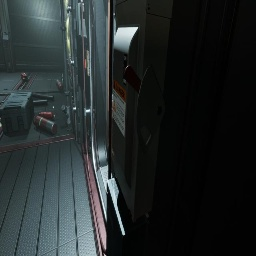EmergencyPhone ,: (85, 43, 90, 77)
FireAlarm ,: (84, 49, 87, 69)
FireExtinguisher ]: (38, 112, 57, 121)
FirstAidBox ,: (21, 73, 28, 82)
NitrogenTank ,: (33, 115, 58, 135), (56, 79, 64, 91)
SafetySwitchPanel ,: (112, 0, 173, 222)
